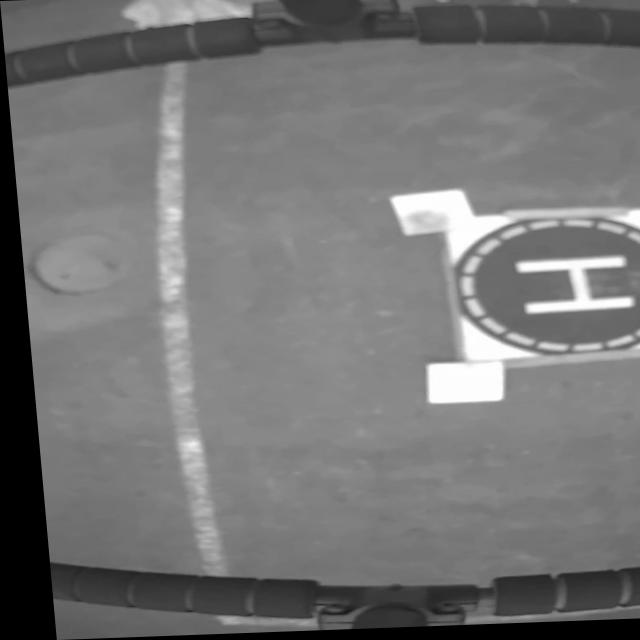Helipad: (511, 260, 628, 318)
